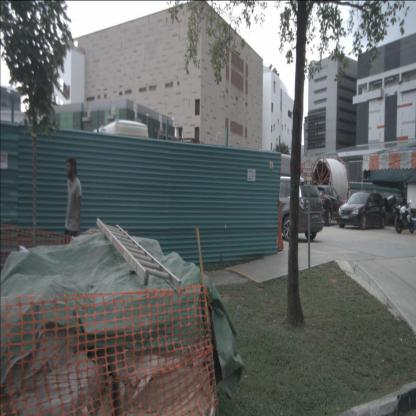human-pedestrian-adult: (64, 157, 82, 302)
movable_object-barrier: (254, 200, 284, 252)
vehicle-car: (251, 176, 323, 241), (338, 192, 386, 230), (310, 186, 346, 226)
vehicle-motorcycle: (387, 194, 414, 233)
